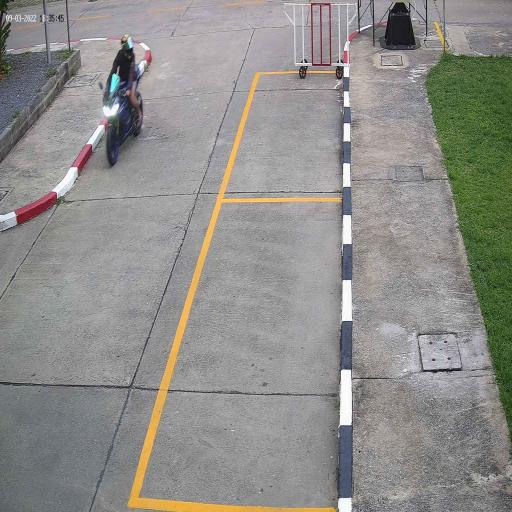motorcycle: (102, 86, 144, 167)
